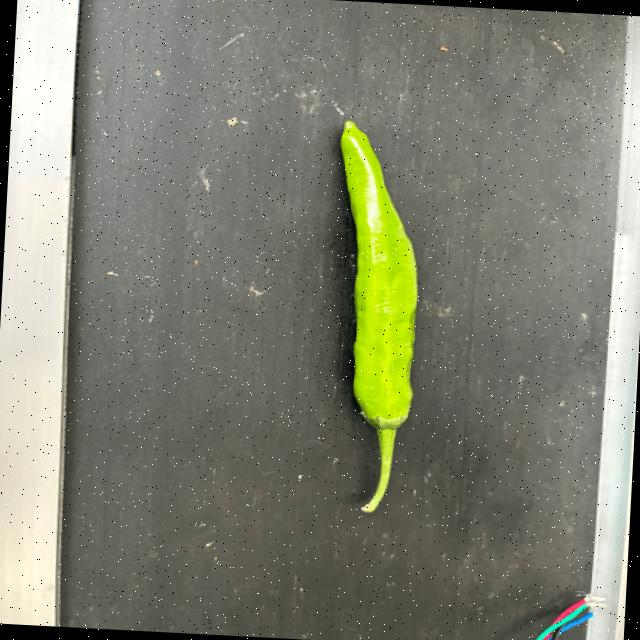chili: (338, 120, 416, 431)
